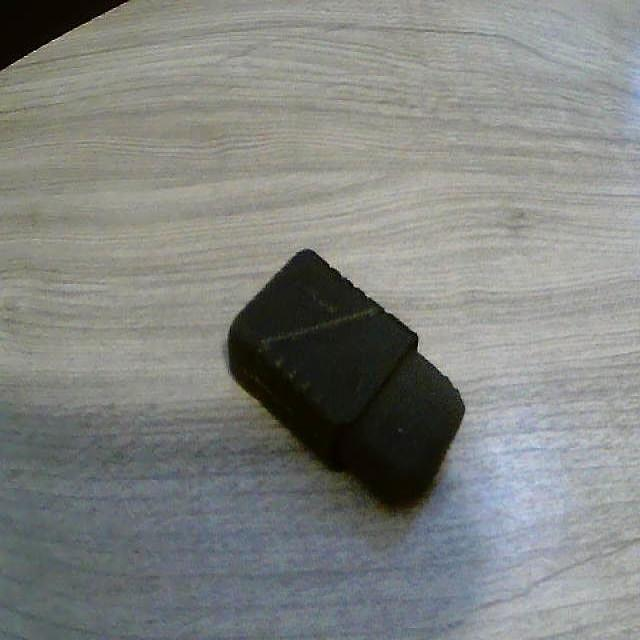borracha: (203, 238, 487, 505)
